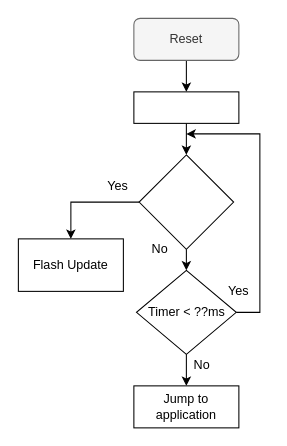
Image size: 287x446. Some labels were removed from this diagram. Here are the shapes that lost their labels. From the top down, the box of each, then its label:
(133, 91, 239, 123): timer begin
(138, 154, 234, 249): SPI Flash signal
